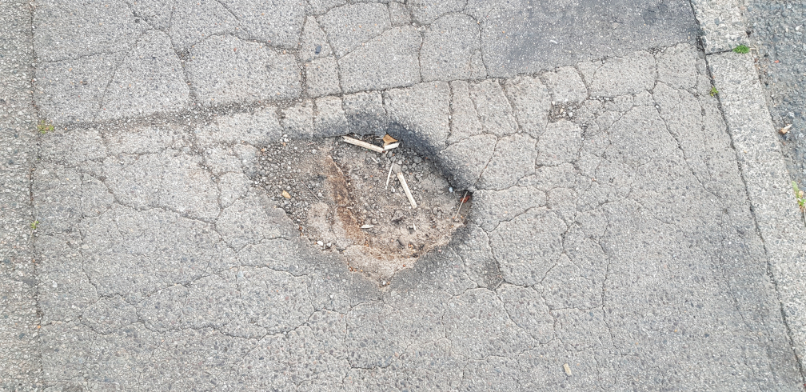pothole: (246, 109, 478, 297)
